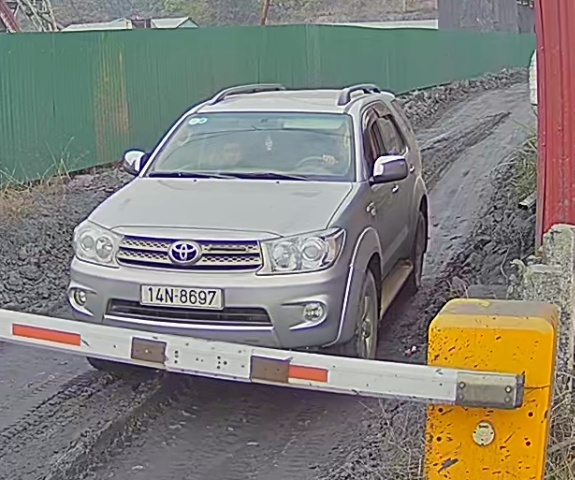vehicle plate: (137, 279, 227, 310)
